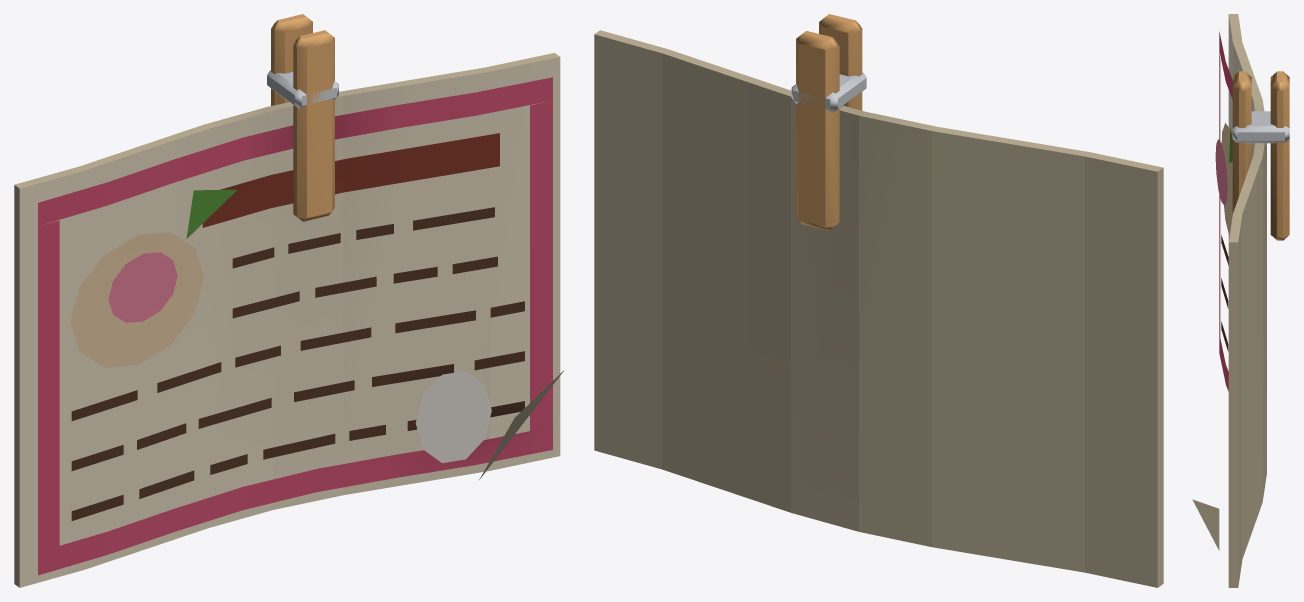
The model's file is keepsake-recipe.glb.
3 renders of one model, left to right at view 1: azimuth 30°, elevation 25°; view 2: azimuth 150°, elevation 25°; view 3: azimuth 270°, elevation 25°, orthographic. The views are drawn at different scales.
Visible parts, largest first — view 1: Keepsake recipe Plaster, Keepsake recipe Wood, Keepsake recipe Metal; view 2: Keepsake recipe Plaster, Keepsake recipe Wood, Keepsake recipe Metal; view 3: Keepsake recipe Plaster, Keepsake recipe Wood, Keepsake recipe Metal.
Boxes of the visible parts, x1,y1,x2,y2 form: Keepsake recipe Plaster: (14, 53, 564, 587); Keepsake recipe Wood: (271, 14, 334, 221); Keepsake recipe Metal: (267, 70, 338, 108); Keepsake recipe Plaster: (594, 30, 1163, 587); Keepsake recipe Wood: (796, 14, 862, 230); Keepsake recipe Metal: (791, 72, 866, 112); Keepsake recipe Plaster: (1192, 14, 1266, 587); Keepsake recipe Wood: (1232, 71, 1289, 240); Keepsake recipe Metal: (1232, 111, 1289, 143).
Bounding box in the file's own units: 0.34 × 0.285 × 0.0614.
